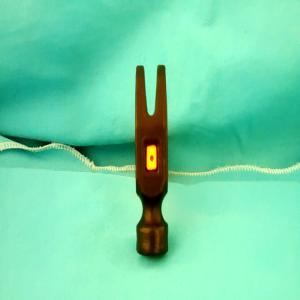martelo: (135, 64, 169, 259)
